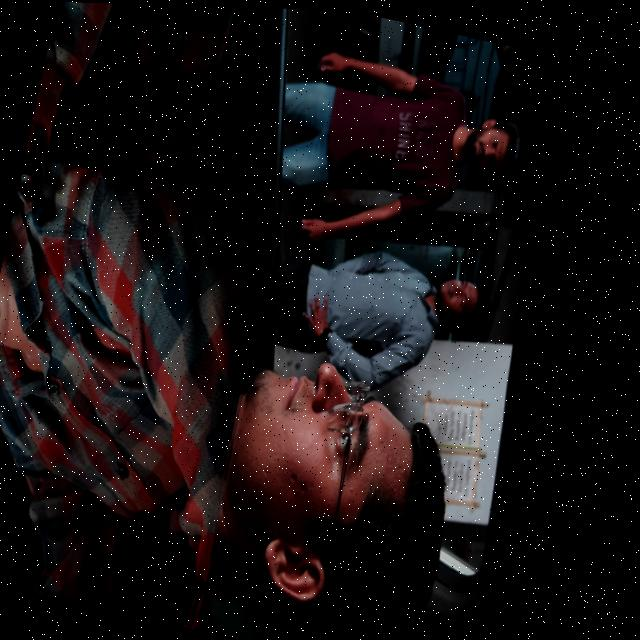no-seatbelt: (0, 153, 284, 631)
